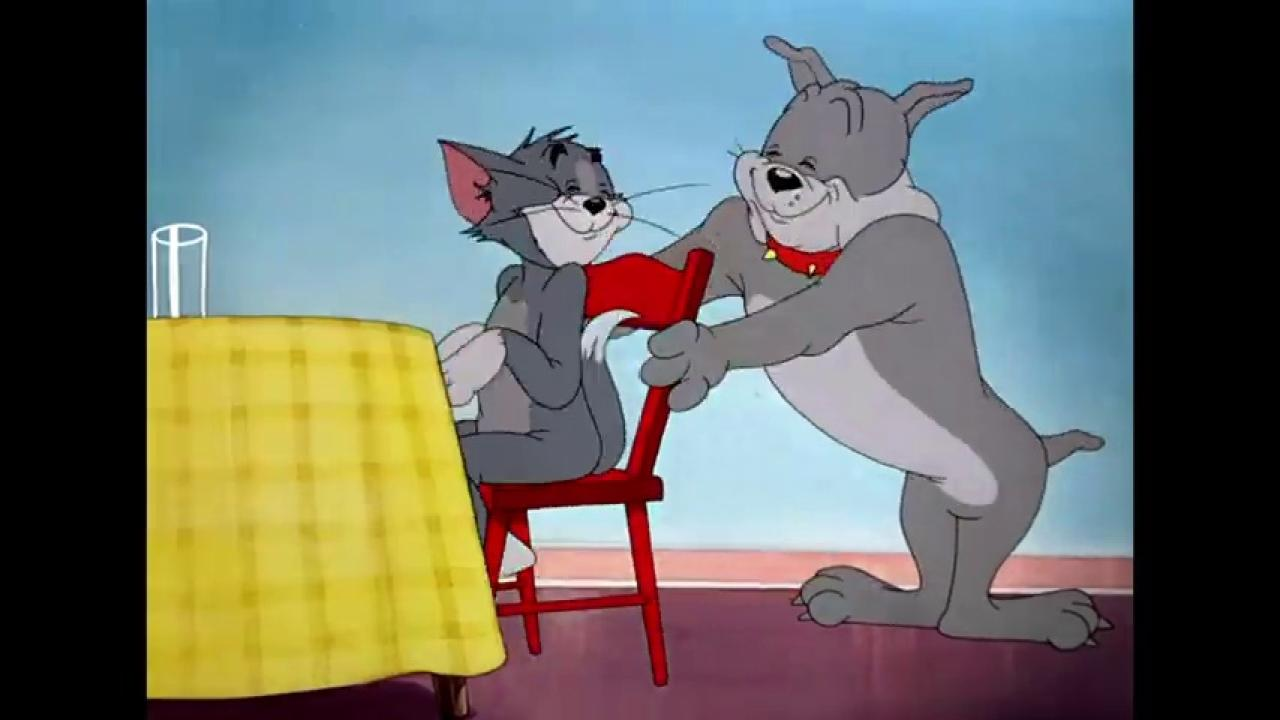Tom: (434, 124, 646, 583)
